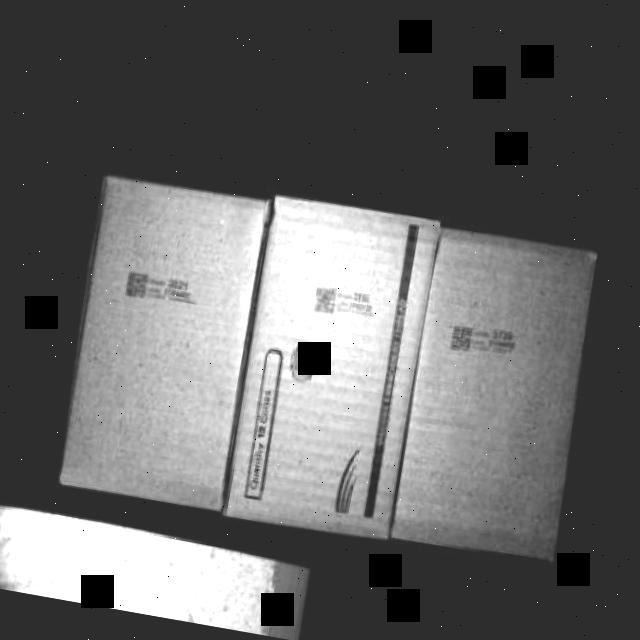box: (218, 190, 446, 548), (48, 165, 276, 507), (390, 222, 608, 564)
